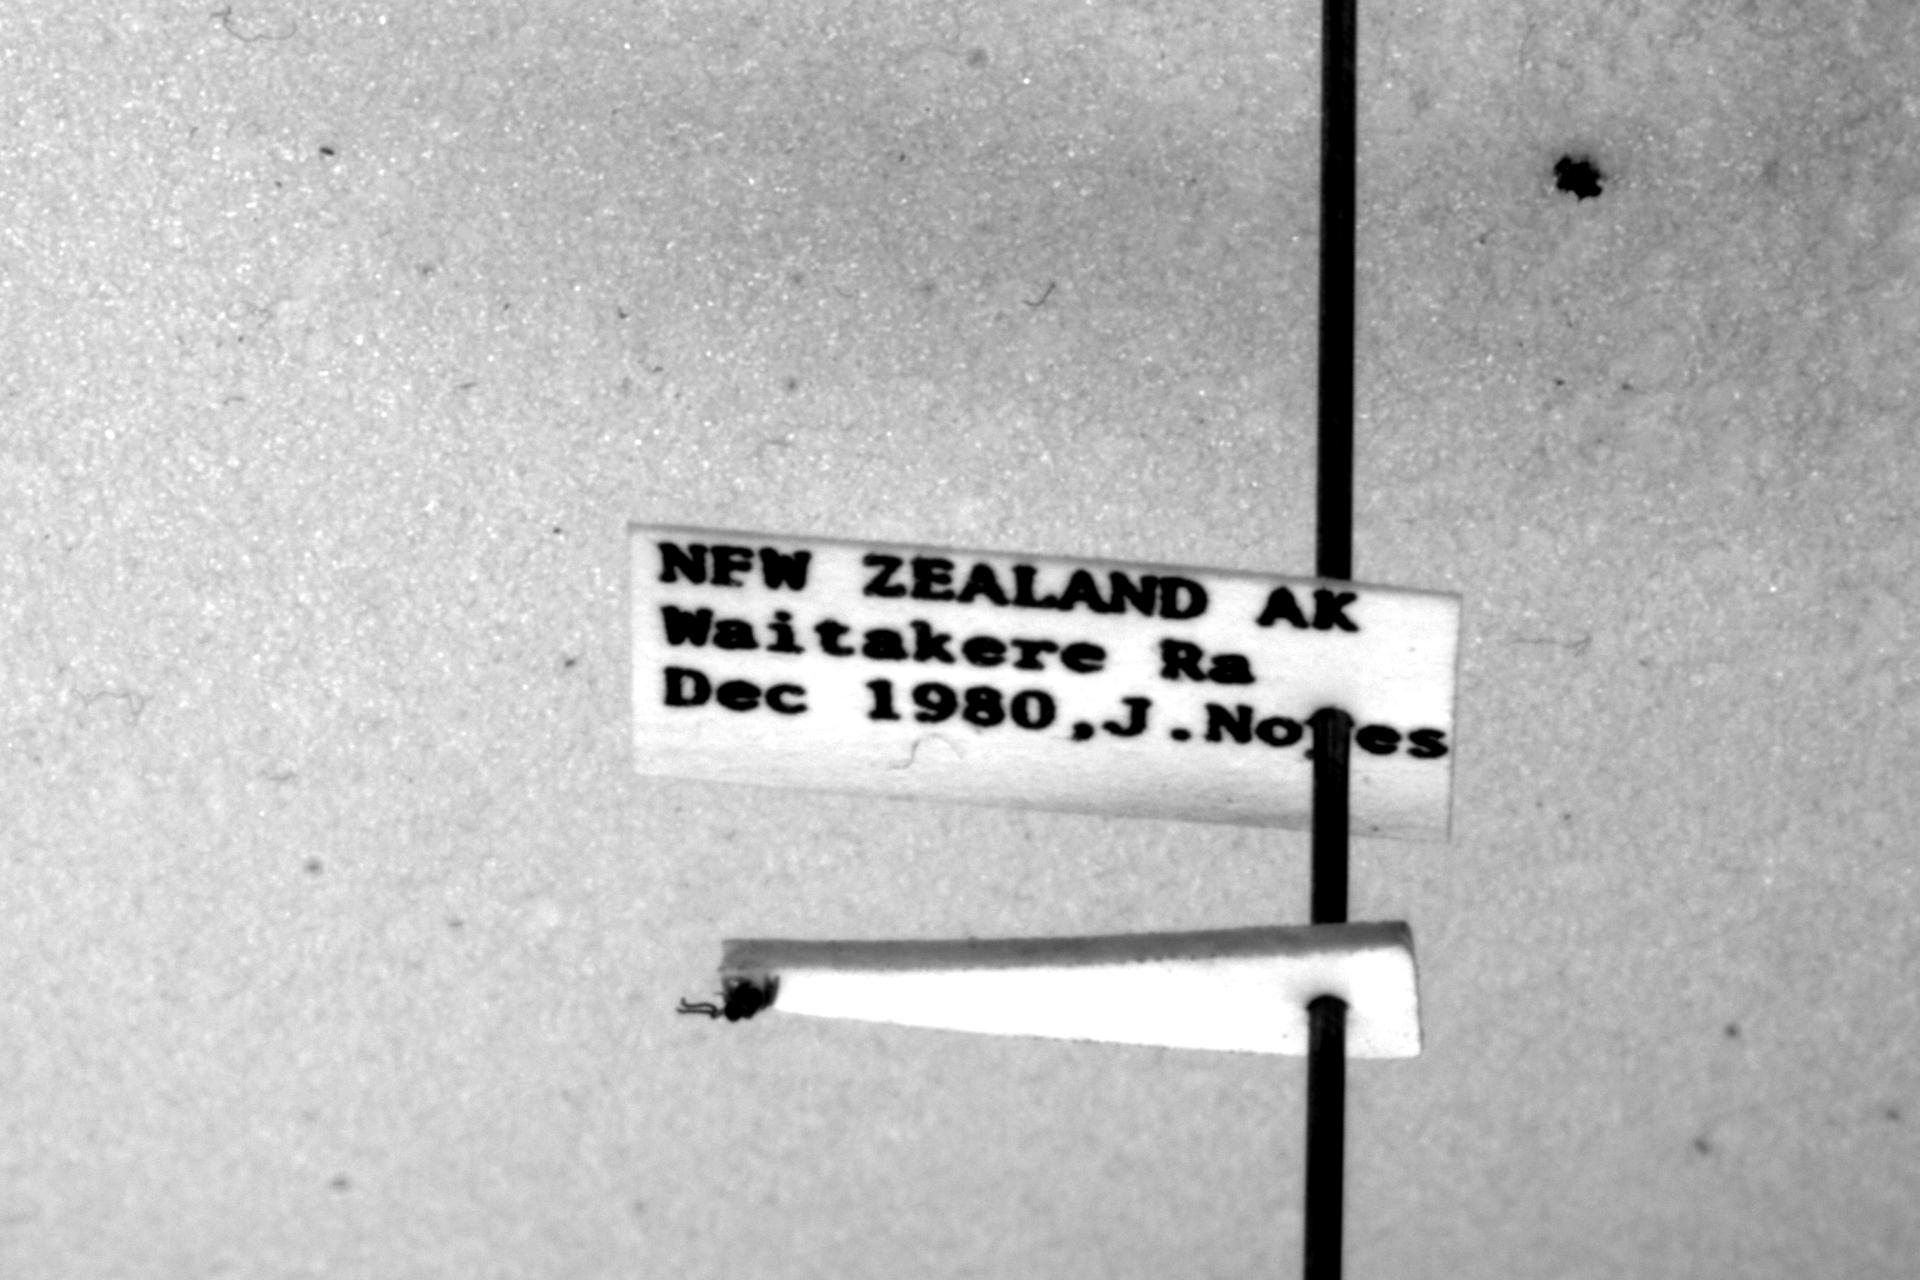typed_label: (630, 525, 1459, 840)
